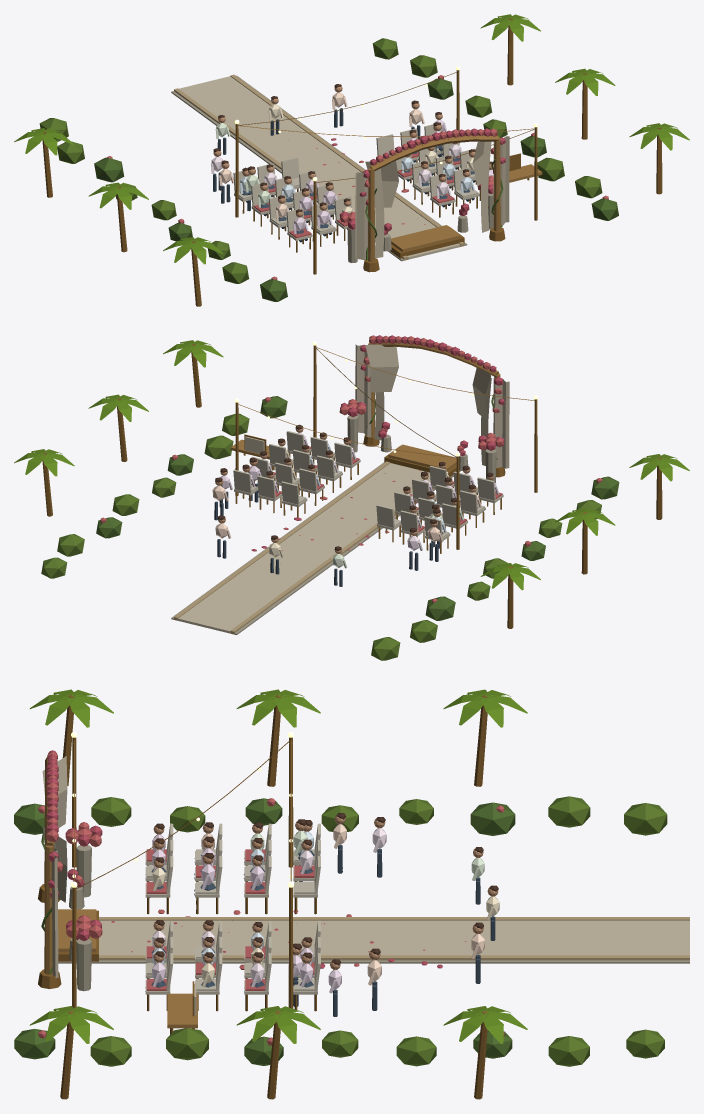
The model's file is bay-wedding-venue.glb.
The picture shows the model from 3 angles, top to bottom: view 1: azimuth 30°, elevation 25°; view 2: azimuth 150°, elevation 25°; view 3: azimuth 270°, elevation 25°; orthographic projection. The views are drawn at different scales.
Parts seen in each view (by area): view 1: GEO-pw_aisle, GEO-pw_arch_drape_-1, GEO-pw_altar_top, GEO-pw_aisle_edge_1, GEO-pw_arch_drape_1, GEO-pw_arch_drape_inner_-1, GEO-pw_arch_drape_inner_1, GEO-pw_arch_inner_-1, GEO-pw_arch_post_1, GEO-pw_arch_post_-1, GEO-pw_aisle_edge_-1, GEO-pw_side_bush_-1_6 (+12 smaller); view 2: GEO-pw_aisle, GEO-pw_arch_inner_1, GEO-pw_arch_drape_-1, GEO-pw_arch_drape_1, GEO-pw_aisle_edge_1, GEO-pw_altar_top, GEO-pw_aisle_edge_-1, GEO-pw_aisle_stone_-1, GEO-pw_arch_inner_-1, GEO-pw_side_bush_-1_6, GEO-pw_side_bush_-1_8, GEO-pw_side_bush_1_2 (+3 smaller); view 3: GEO-pw_aisle, GEO-pw_aisle_edge_1, GEO-pw_aisle_edge_-1, GEO-pw_aisle_stone_1, GEO-pw_side_bush_-1_6, GEO-pw_side_bush_-1_8, GEO-pw_side_bush_1_2, GEO-pw_side_bush_-1_7, GEO-pw_side_bush_1_7, GEO-pw_table, GEO-pw_side_bush_1_1, GEO-pw_side_bush_1_5 (+22 smaller).
Boxes of the visible parts, x1,y1,x2,y2 form: GEO-pw_aisle: (179,76,460,259); GEO-pw_arch_drape_-1: (355,172,368,259); GEO-pw_altar_top: (391,225,460,251); GEO-pw_aisle_edge_1: (230,74,464,246); GEO-pw_arch_drape_1: (493,136,509,227); GEO-pw_arch_drape_inner_-1: (374,168,384,258); GEO-pw_arch_drape_inner_1: (481,141,491,232); GEO-pw_arch_inner_-1: (365,161,398,207); GEO-pw_arch_post_1: (493,137,500,231); GEO-pw_arch_post_-1: (367,168,375,261); GEO-pw_aisle_edge_-1: (174,88,407,260); GEO-pw_side_bush_-1_6: (94,157,124,182); GEO-pw_aisle: (178,463,430,633); GEO-pw_arch_inner_1: (365,344,398,392); GEO-pw_arch_drape_-1: (493,378,509,468); GEO-pw_arch_drape_1: (355,344,371,436); GEO-pw_aisle_edge_1: (174,461,390,620); GEO-pw_altar_top: (388,444,456,471); GEO-pw_aisle_edge_-1: (230,510,396,634); GEO-pw_aisle_stone_-1: (234,470,460,634); GEO-pw_arch_inner_-1: (472,368,490,420); GEO-pw_side_bush_-1_6: (425,596,455,620); GEO-pw_side_bush_-1_8: (371,637,400,660); GEO-pw_side_bush_1_2: (204,435,233,459); GEO-pw_aisle: (99,920,689,955); GEO-pw_aisle_edge_1: (99,955,689,960); GEO-pw_aisle_edge_-1: (99,917,689,920); GEO-pw_aisle_stone_1: (58,960,689,963); GEO-pw_side_bush_-1_6: (470,802,515,835); GEO-pw_side_bush_-1_8: (624,803,667,835); GEO-pw_side_bush_1_2: (166,1028,208,1060); GEO-pw_side_bush_-1_7: (548,796,590,827); GEO-pw_side_bush_1_7: (548,1036,589,1066); GEO-pw_table: (167,993,197,1028); GEO-pw_side_bush_1_1: (90,1036,131,1066); GEO-pw_side_bush_1_5: (396,1036,436,1066).
Size of the model in its own units: 16.81 by 3.88 by 13.72.
